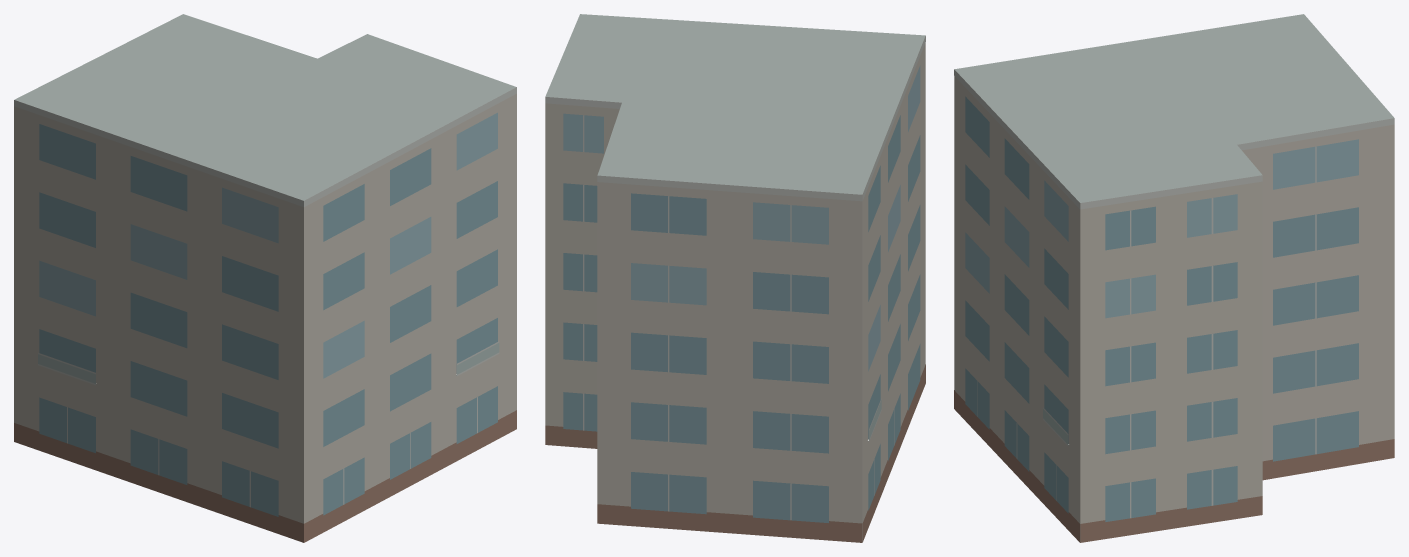
The model's file is survey-upis-32864423.glb.
The picture shows the model from 3 angles, left to right: view 1: azimuth 30°, elevation 25°; view 2: azimuth 150°, elevation 25°; view 3: azimuth 270°, elevation 25°; orthographic projection. The views are drawn at different scales.
Parts seen in each view (by area): view 1: survey-upis-32864423.tmp; view 2: survey-upis-32864423.tmp; view 3: survey-upis-32864423.tmp.
Part boxes in pixels (bbox=[...]): survey-upis-32864423.tmp: bbox=[14, 14, 516, 542]; survey-upis-32864423.tmp: bbox=[545, 14, 925, 542]; survey-upis-32864423.tmp: bbox=[954, 14, 1394, 542].
Bounding box in the file's own units: 15.53 × 13 × 15.28.
